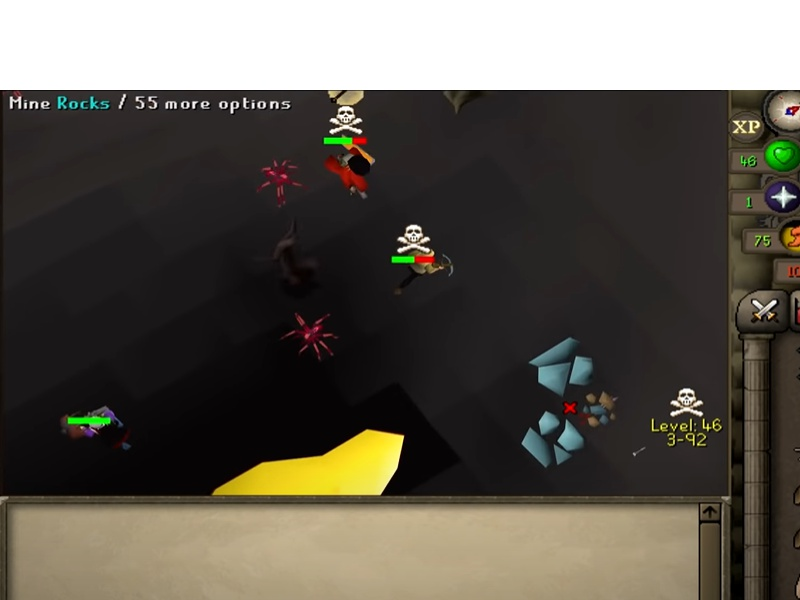rune: (526, 335, 597, 401), (518, 407, 589, 471)
